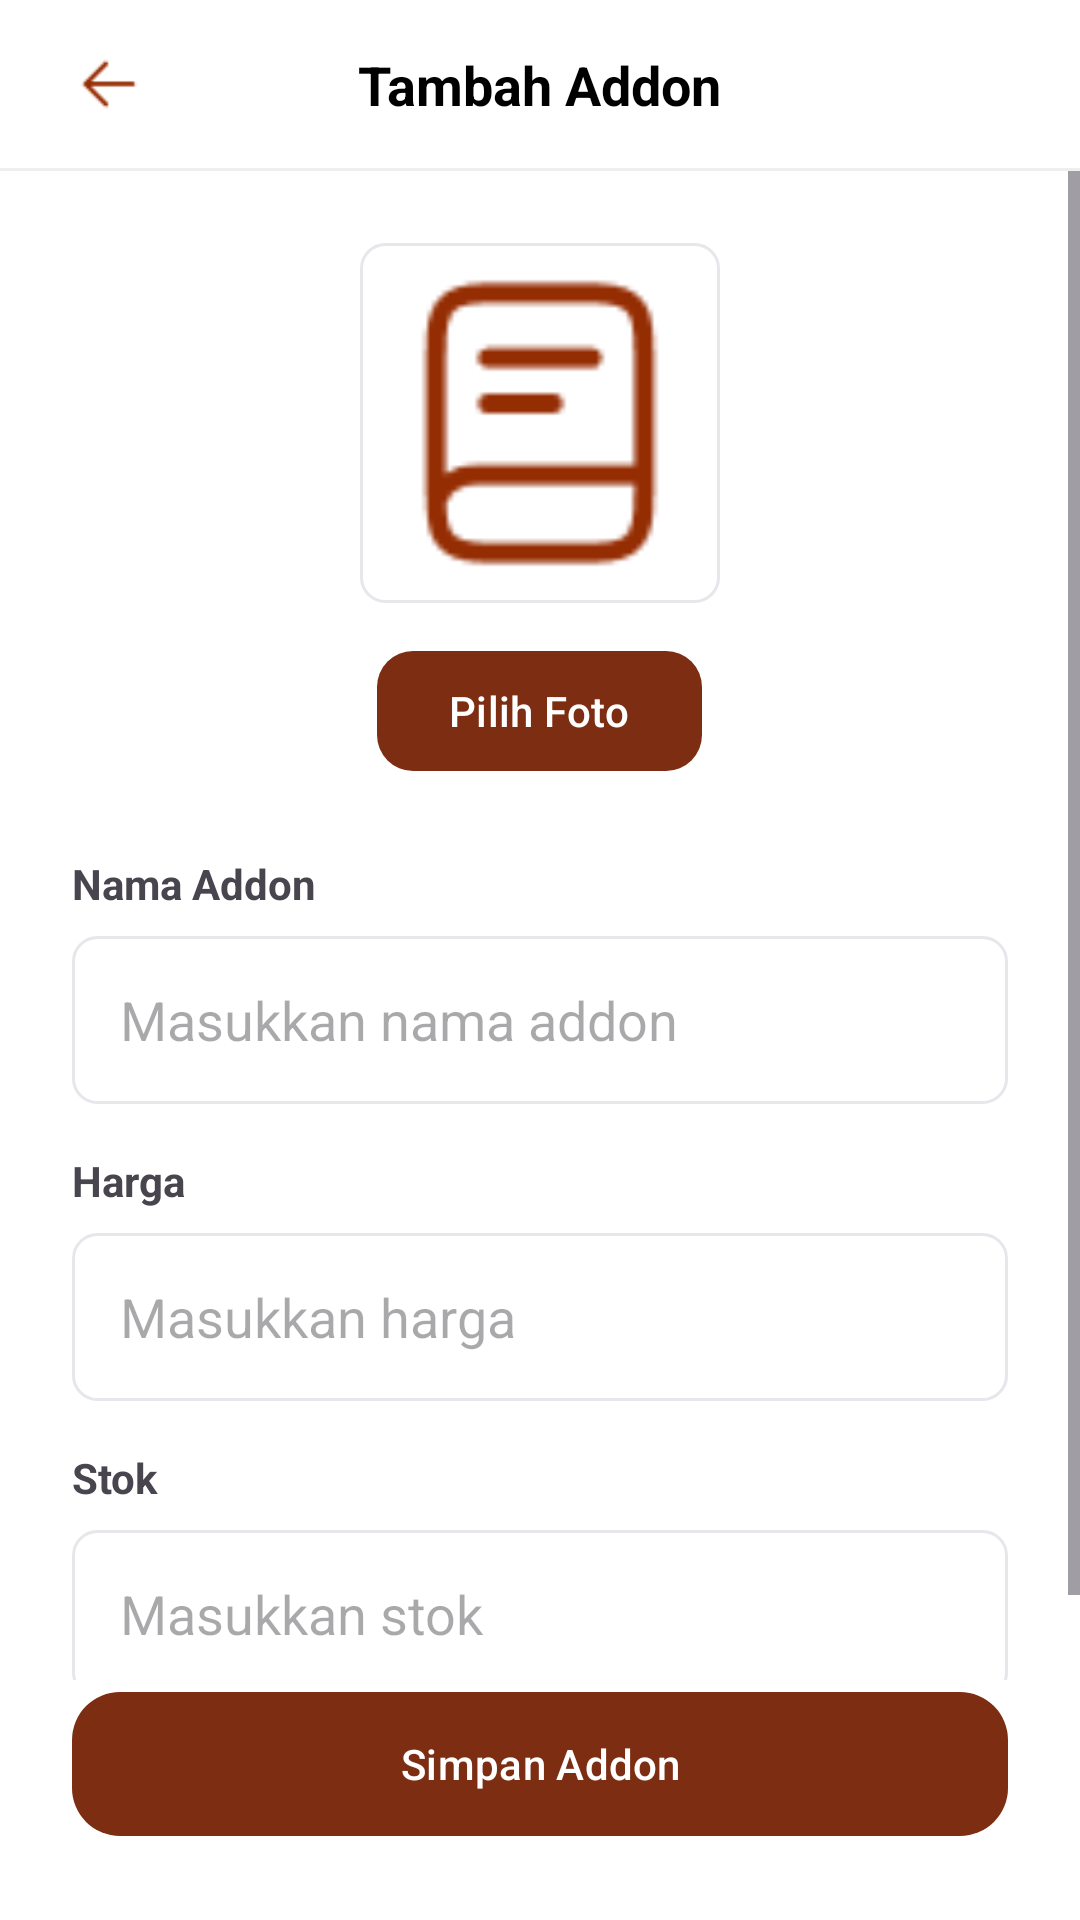

Where icons sit on this 1080 × 1920 app screen, as bbox(x1, y1, x2, y2):
back: bbox(82, 60, 136, 108)
